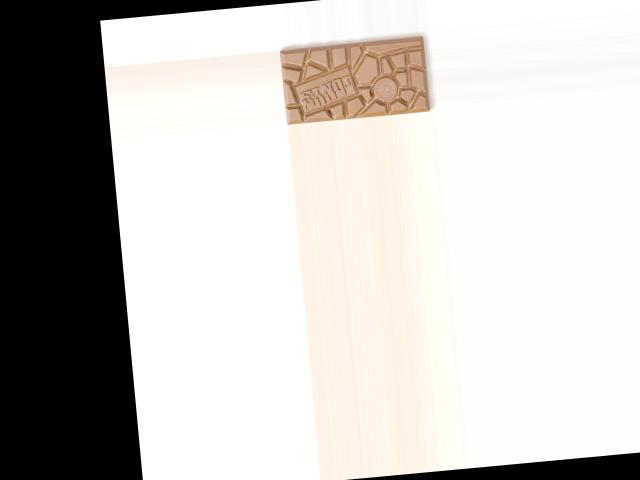chocolate: (278, 32, 431, 124)
